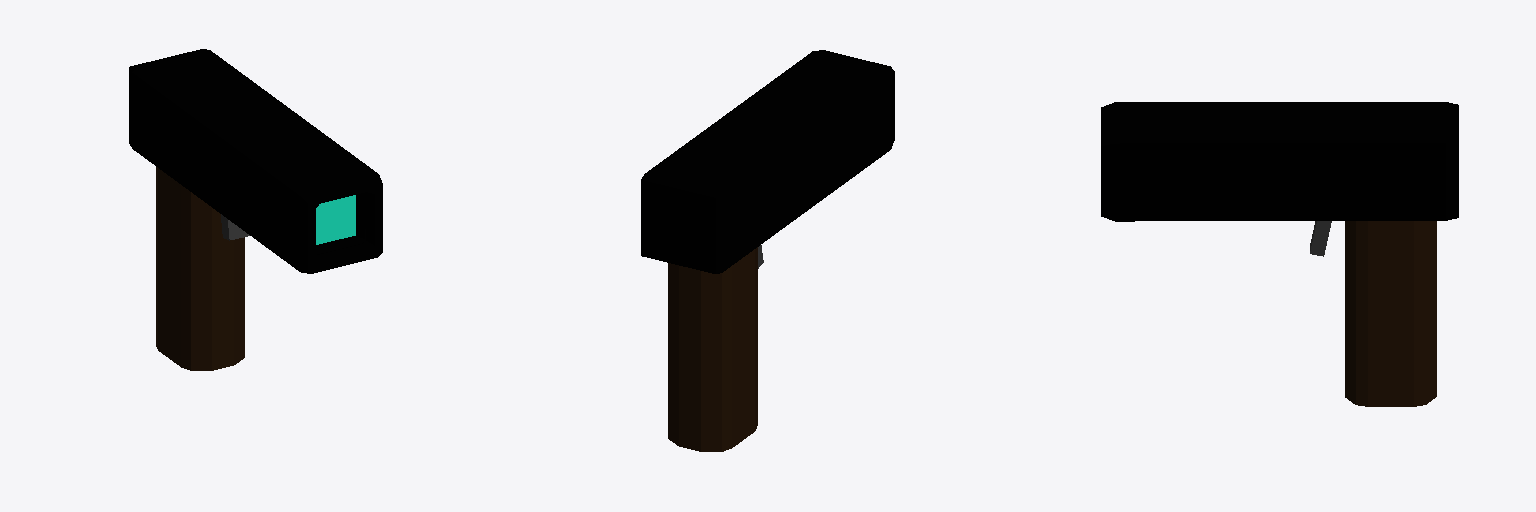
Rendered from gun.obj.
3 renders of one model, left to right at view 1: azimuth 30°, elevation 25°; view 2: azimuth 150°, elevation 25°; view 3: azimuth 270°, elevation 25°, orthographic.
Parts seen in each view (by area): view 1: Cube.001; view 2: Cube.001; view 3: Cube.001.
Part boxes in pixels (x1,y1,x2,y2): Cube.001: (129, 49, 382, 370); Cube.001: (641, 50, 894, 451); Cube.001: (1101, 102, 1458, 406).
Size of the model in its own units: 2.72 by 8.67 by 10.37.